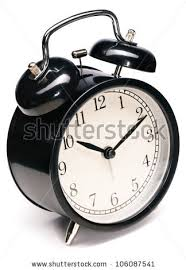alarm_clock: (7, 7, 177, 245), (18, 7, 177, 245), (18, 16, 177, 245)
